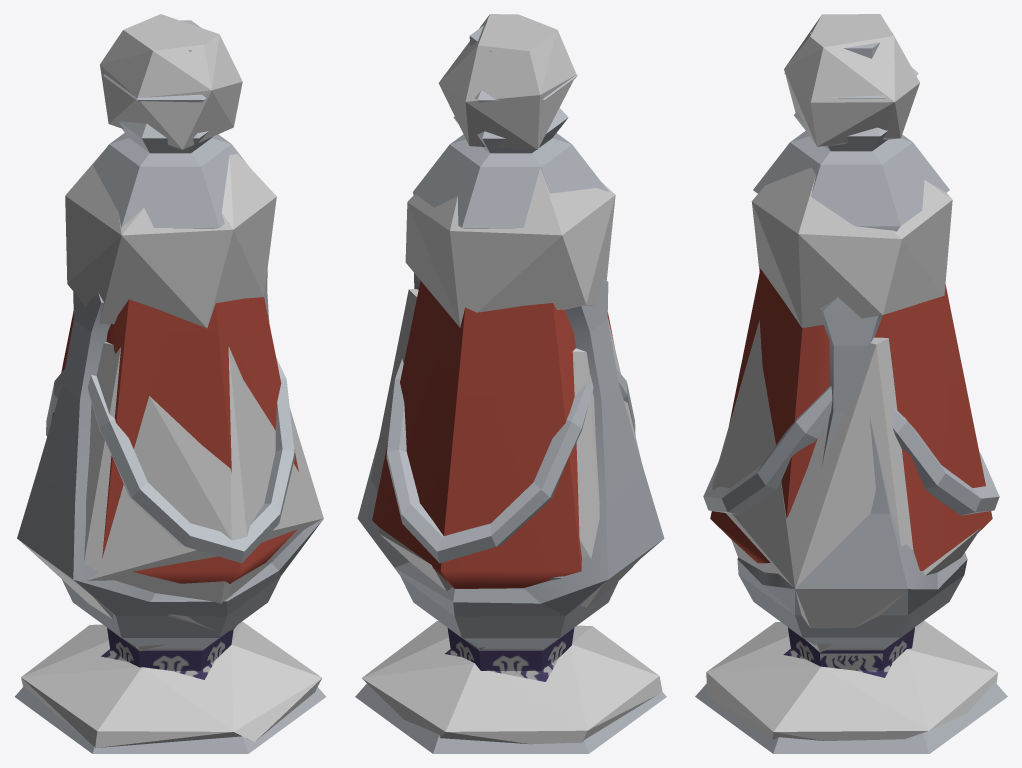
File: SM_Item_Elixir_02.fbx
3 renders of one model, left to right at view 1: azimuth 30°, elevation 25°; view 2: azimuth 150°, elevation 25°; view 3: azimuth 270°, elevation 25°, orthographic.
Parts seen in each view (by area): view 1: SM_Item_Elixir_02_ConvexHulls, SM_Item_Elixir_02; view 2: SM_Item_Elixir_02, SM_Item_Elixir_02_ConvexHulls; view 3: SM_Item_Elixir_02_ConvexHulls, SM_Item_Elixir_02.
Part boxes in pixels (x1,y1,x2,y2): SM_Item_Elixir_02_ConvexHulls: (21,14,323,747); SM_Item_Elixir_02: (15,20,325,753); SM_Item_Elixir_02: (355,25,666,753); SM_Item_Elixir_02_ConvexHulls: (362,14,662,744); SM_Item_Elixir_02_ConvexHulls: (706,14,997,740); SM_Item_Elixir_02: (695,32,1007,753).
Bounding box in the file's own units: 24.95 × 26.89 × 63.18.
Materials: 2 (1 with a texture image).
